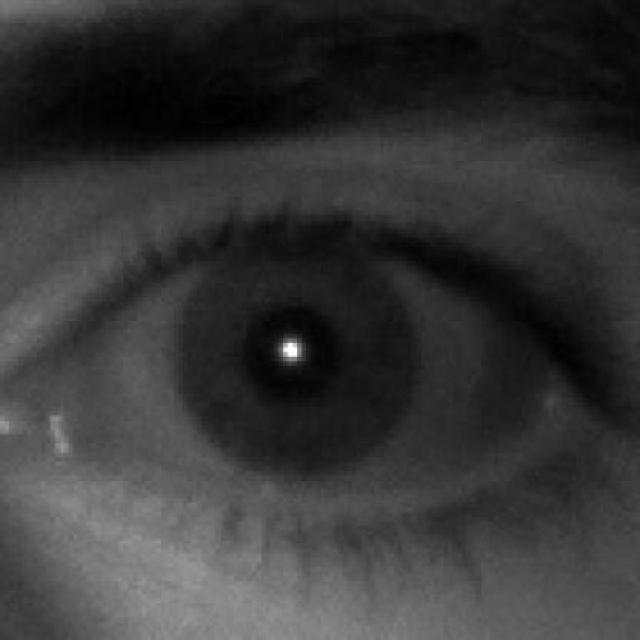awake: (73, 233, 553, 498)
